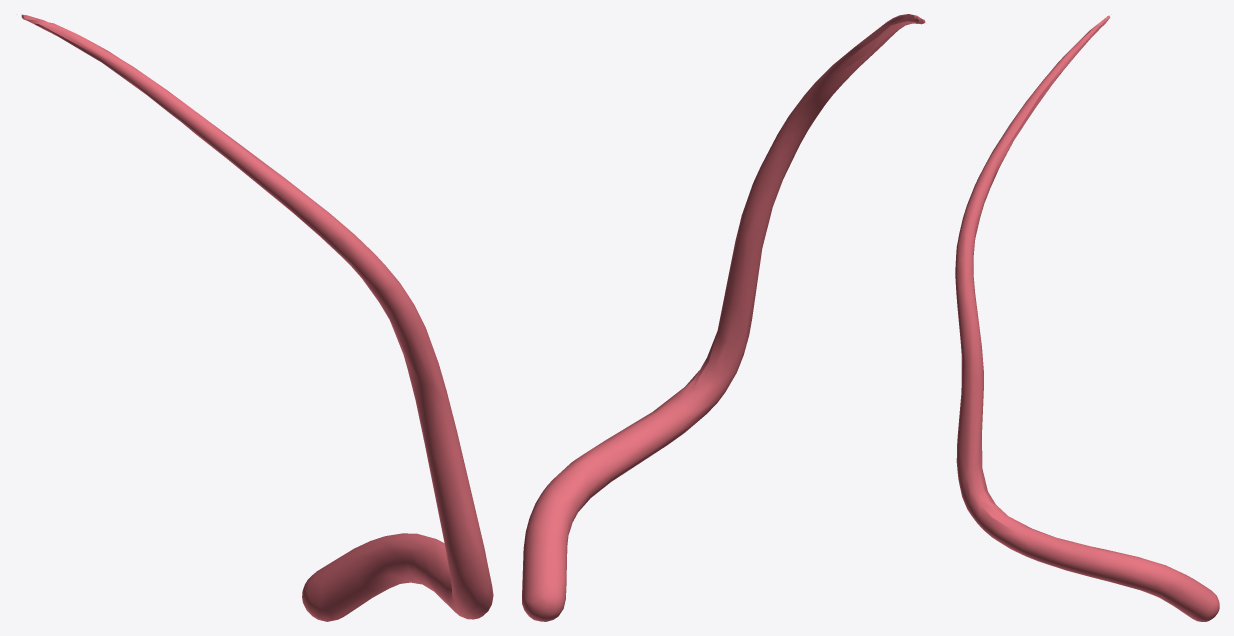
File: fma50351_fj1681.glb
3 renders of one model, left to right at view 1: azimuth 30°, elevation 25°; view 2: azimuth 150°, elevation 25°; view 3: azimuth 270°, elevation 25°, orthographic. The views are drawn at different scales.
Parts seen in each view (by area): view 1: FMA50351_FJ1681; view 2: FMA50351_FJ1681; view 3: FMA50351_FJ1681.
Part boxes in pixels (left/top/right/bottom): FMA50351_FJ1681: left=21, top=14, right=493, bottom=621; FMA50351_FJ1681: left=522, top=14, right=925, bottom=621; FMA50351_FJ1681: left=955, top=14, right=1219, bottom=621.
Size of the model in its own units: 0.0146 by 0.0238 by 0.0118.
